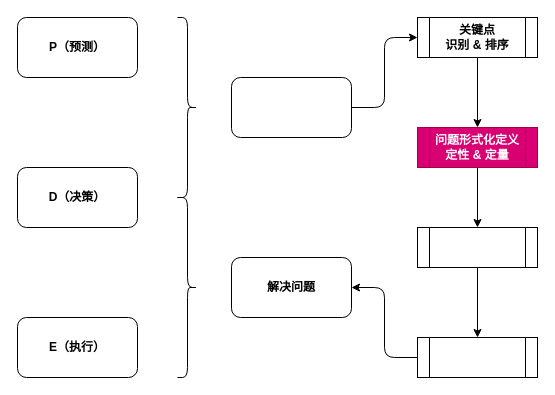
Image size: 555x395. Some labels were removed from this diagram. The shapes that lost their labels are listed below. From the top down, each one's box as (x1, y1, x2, y2) in pixels, then its label:
(230, 76, 352, 138): 发现问题
(416, 226, 538, 268): 解决路径规划 关键抓手
(416, 336, 538, 378): 落地执行复盘
